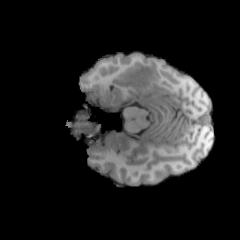glioma: (113, 65, 162, 96)
